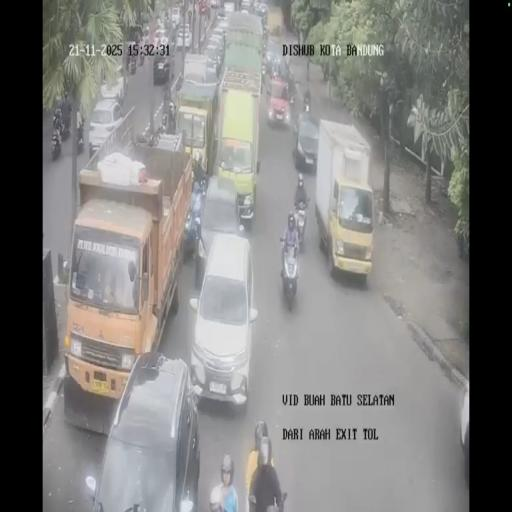3: (316, 120, 374, 284), (174, 67, 220, 180), (222, 10, 264, 86), (100, 70, 127, 106), (266, 6, 283, 36)
car: (89, 354, 199, 508), (196, 174, 242, 276), (88, 98, 126, 158), (292, 114, 320, 170), (266, 74, 290, 128), (204, 40, 225, 79), (152, 50, 174, 84), (264, 40, 282, 81), (176, 24, 192, 50), (153, 27, 168, 49), (253, 1, 267, 19), (170, 6, 180, 28), (216, 3, 228, 20), (240, 0, 252, 12), (164, 10, 171, 28), (210, 0, 218, 9)
truck: (279, 234, 300, 307), (182, 195, 198, 264), (292, 197, 309, 252), (163, 92, 176, 132), (50, 123, 62, 160), (60, 106, 71, 140), (288, 66, 296, 97), (76, 124, 84, 153), (129, 52, 137, 74), (138, 40, 145, 65), (302, 94, 310, 114), (170, 29, 176, 48)
